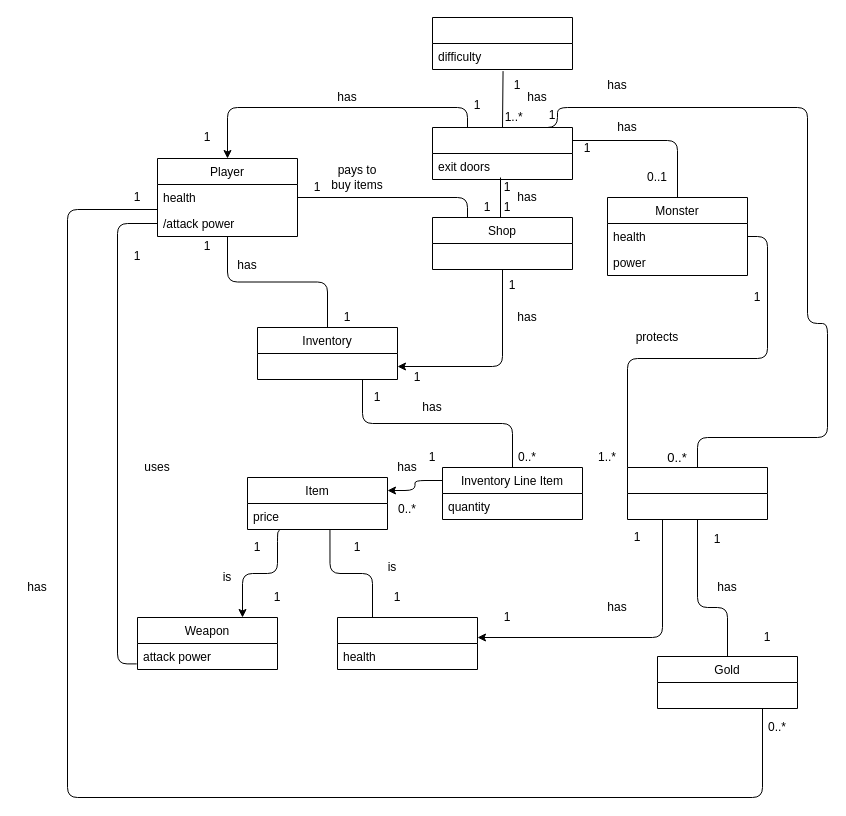
This 846x816 diagram has some shape labels left out. Here are the shapes that lost their labels. From the top down, the box of each, then its label:
(432, 16, 572, 70): Dungeon
(432, 126, 572, 180): Room
(626, 466, 768, 520): Treasure
(336, 616, 478, 670): Potion
